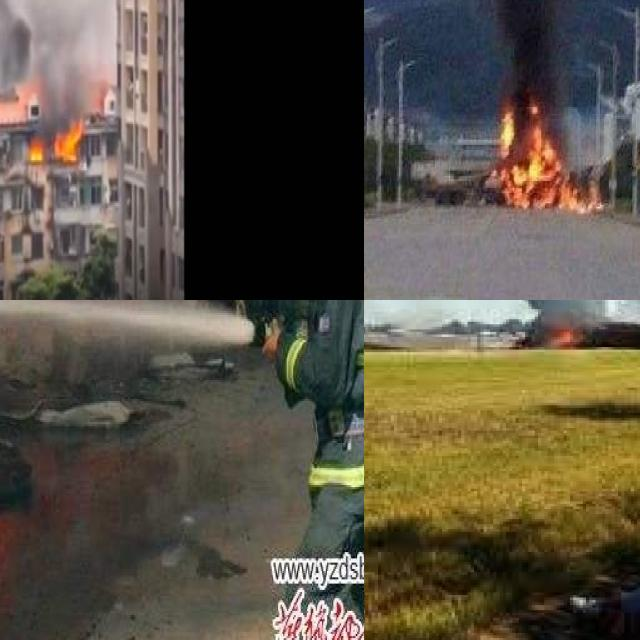fire: (494, 93, 606, 217), (512, 300, 598, 357), (52, 118, 84, 168), (27, 131, 46, 167)
smoke: (469, 0, 575, 91), (37, 0, 107, 107)
